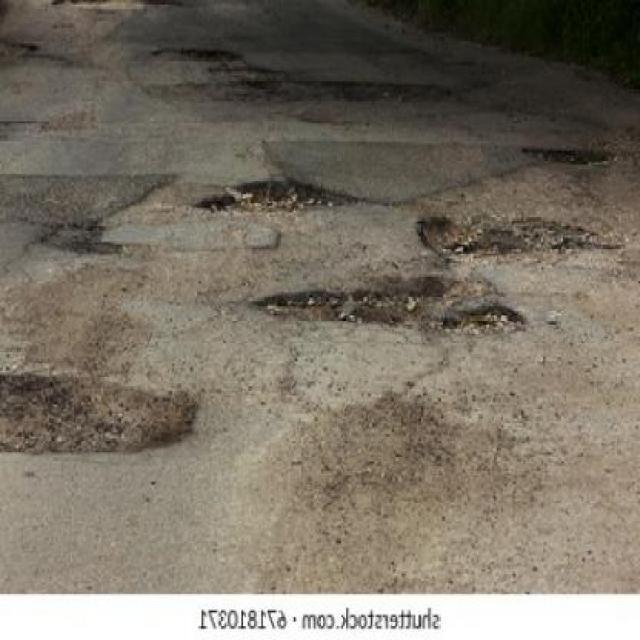Pothole: (254, 262, 534, 348), (0, 368, 217, 466), (162, 45, 450, 108), (411, 202, 614, 268), (193, 174, 359, 232), (512, 141, 615, 173)
